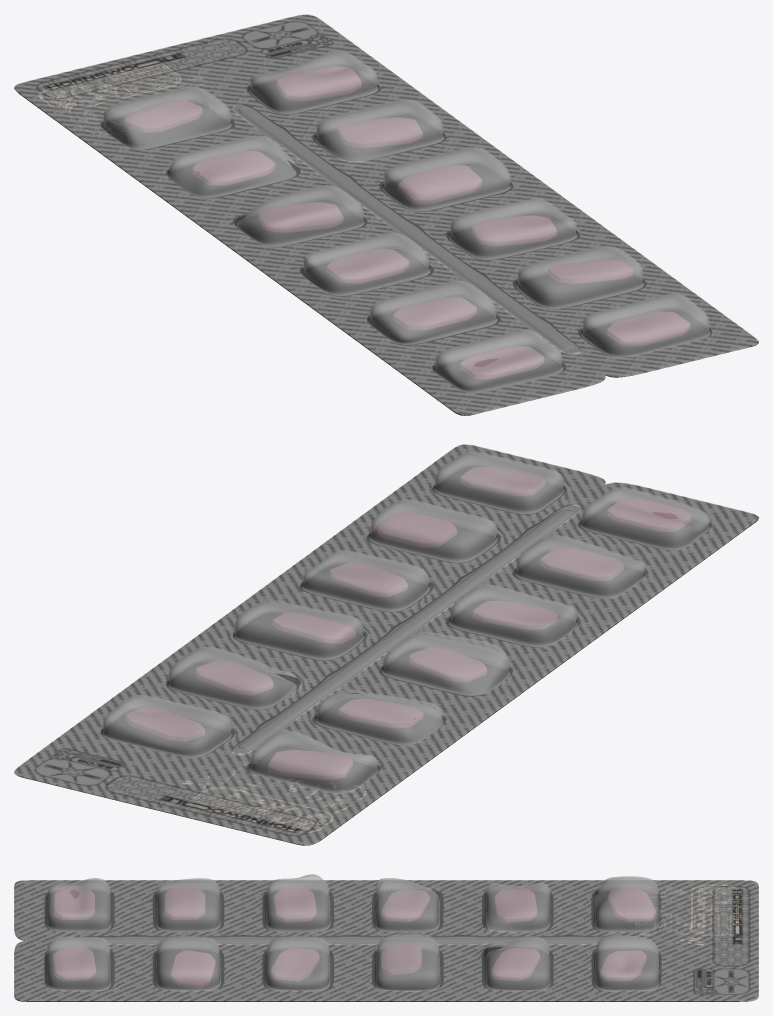
The model's file is medicine_box.glb.
The picture shows the model from 3 angles, top to bottom: view 1: azimuth 30°, elevation 25°; view 2: azimuth 150°, elevation 25°; view 3: azimuth 270°, elevation 25°; orthographic projection. The views are drawn at different scales.
Visible parts, largest first — view 1: Object_3, Object_6, Object_2, Object_7, Object_4, Object_5; view 2: Object_3, Object_6, Object_2, Object_7, Object_4, Object_5; view 3: Object_6, Object_2, Object_3, Object_7, Object_4, Object_5.
Boxes of the visible parts, left/top/right/bottom form: Object_3: left=101, top=51, right=711, bottom=393; Object_6: left=14, top=15, right=758, bottom=415; Object_2: left=14, top=14, right=758, bottom=415; Object_7: left=16, top=15, right=757, bottom=414; Object_4: left=124, top=100, right=689, bottom=379; Object_5: left=276, top=66, right=633, bottom=283; Object_3: left=100, top=451, right=711, bottom=793; Object_6: left=15, top=445, right=758, bottom=845; Object_2: left=14, top=444, right=758, bottom=845; Object_7: left=15, top=445, right=758, bottom=844; Object_4: left=268, top=467, right=690, bottom=779; Object_5: left=125, top=512, right=456, bottom=741; Object_6: left=15, top=880, right=758, bottom=1001; Object_2: left=14, top=880, right=758, bottom=1001; Object_3: left=44, top=874, right=661, bottom=990; Object_7: left=14, top=881, right=758, bottom=1000; Object_4: left=53, top=888, right=655, bottom=981; Object_5: left=171, top=943, right=646, bottom=988.
Size of the model in its own units: 2.09 by 0.163 by 5.43.
Materials: 4 (2 with a texture image).
